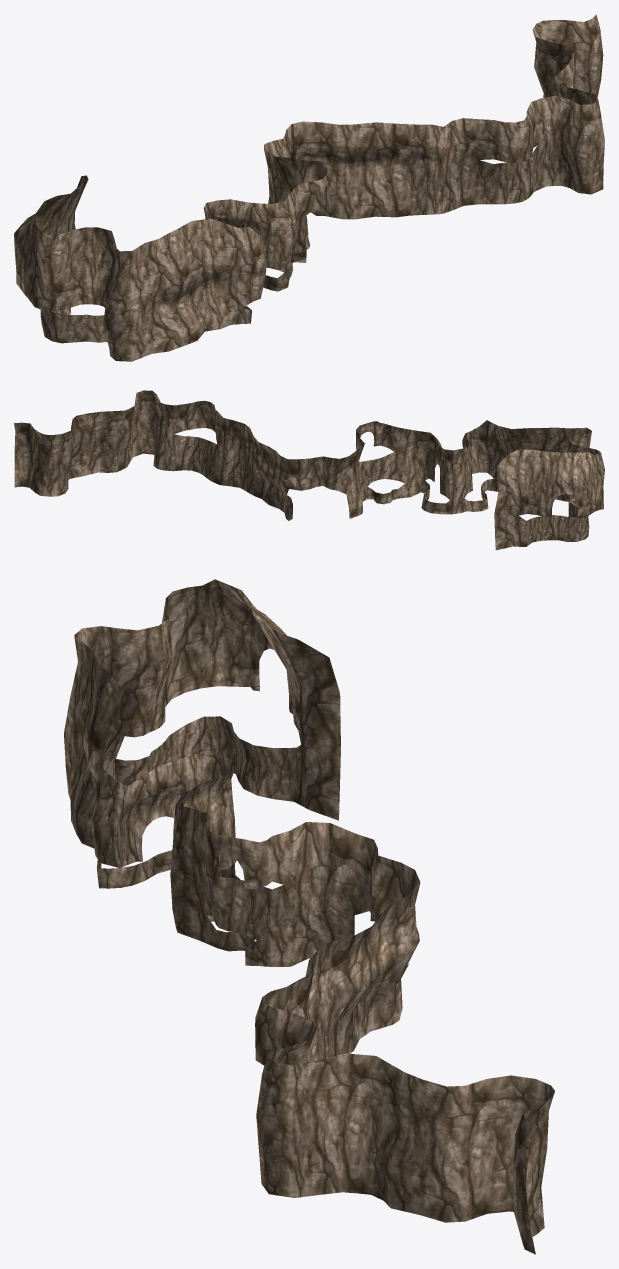
Rendered from EKH_CAVERNS_PS_CA_OBJECT08.fbx.
The picture shows the model from 3 angles, top to bottom: view 1: azimuth 30°, elevation 25°; view 2: azimuth 150°, elevation 25°; view 3: azimuth 270°, elevation 25°; orthographic projection. The views are drawn at different scales.
Parts seen in each view (by area): view 1: EKH_CAVERNS_PS_CA_OBJECT08; view 2: EKH_CAVERNS_PS_CA_OBJECT08; view 3: EKH_CAVERNS_PS_CA_OBJECT08.
Boxes of the visible parts, <box> form: EKH_CAVERNS_PS_CA_OBJECT08: <box>14,14,604,361</box>; EKH_CAVERNS_PS_CA_OBJECT08: <box>14,390,604,550</box>; EKH_CAVERNS_PS_CA_OBJECT08: <box>64,579,554,1254</box>.
Size of the model in its own units: 711268 by 132351 by 300316.
Materials: 1 (1 with a texture image).
